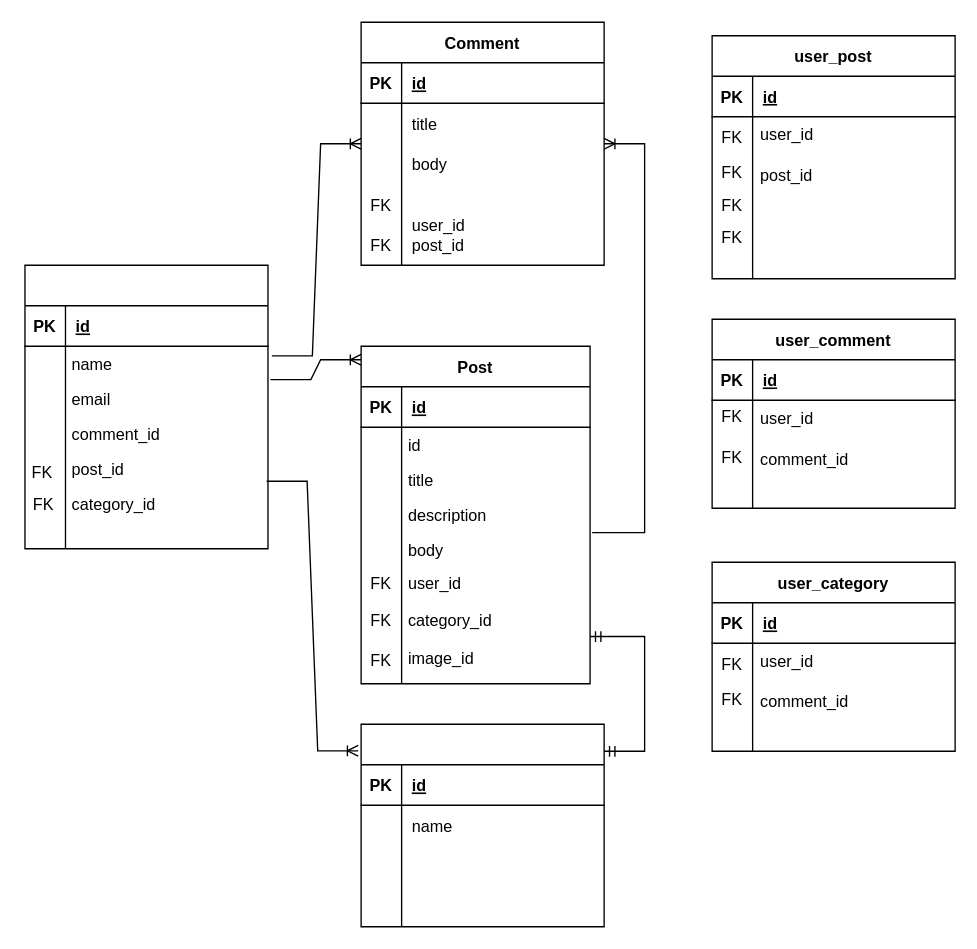
The diagram is 977 pixels wide and 949 high, and some of its shapes have lost their labels. Here are the shapes that lost their labels. From the top down, the box of each, then its label:
(24, 264, 268, 549): User
(360, 723, 604, 927): Category
